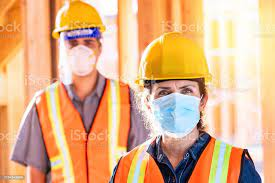Helmet: (132, 35, 219, 87), (43, 3, 111, 39)
Jacket: (36, 86, 135, 183)
Mask: (142, 96, 206, 137), (63, 45, 102, 78)
